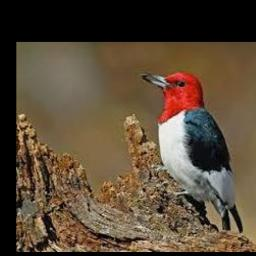Woodpecker: (142, 71, 244, 234)
